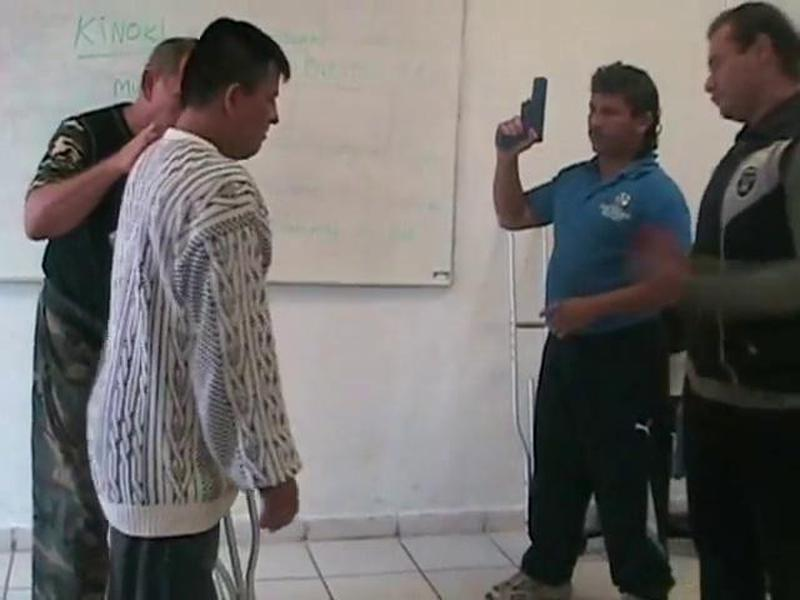Pistola: (501, 67, 553, 142)
